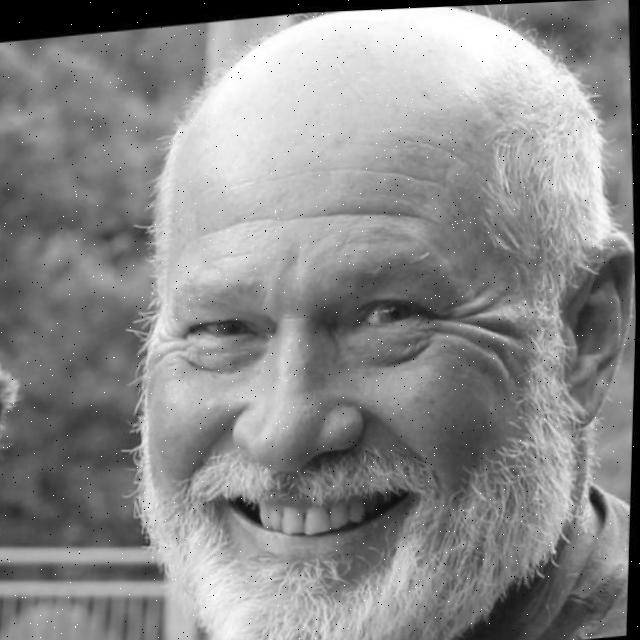puffy_eyes: (186, 334, 262, 378), (367, 319, 437, 361)
